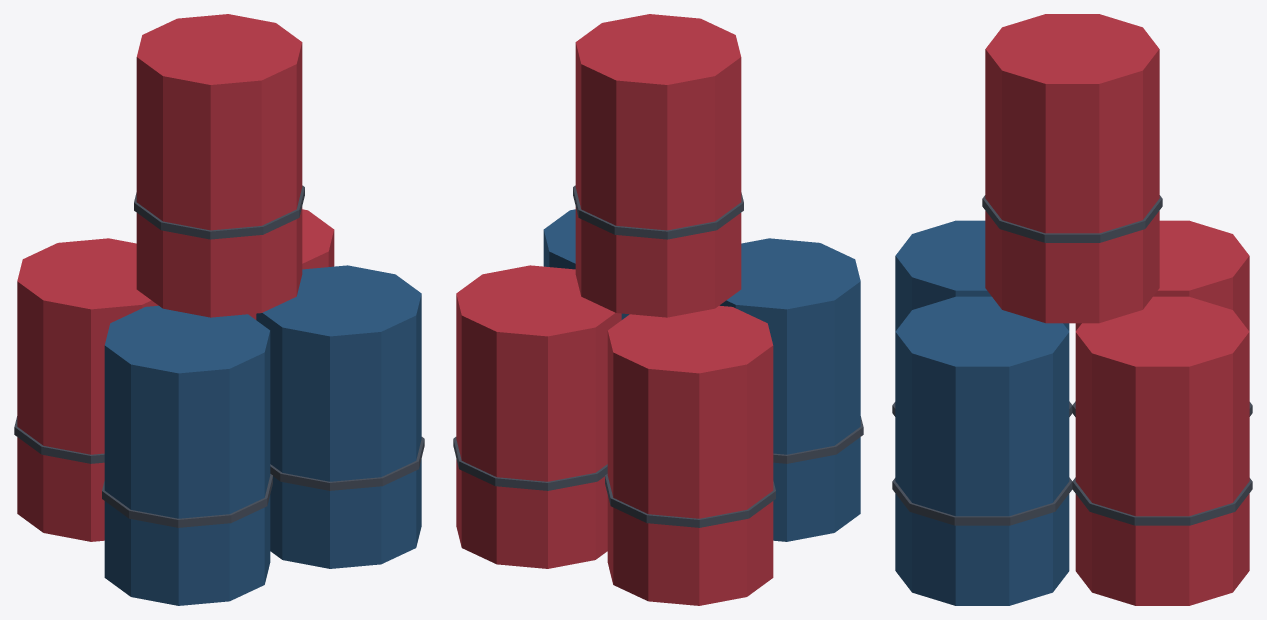
Rendered from drum_stack.glb.
3 views of the same model, side by side, from view 1: azimuth 30°, elevation 25°; view 2: azimuth 150°, elevation 25°; view 3: azimuth 270°, elevation 25° (orthographic). The views are drawn at different scales.
Parts seen in each view (by area): view 1: drum_stack; view 2: drum_stack; view 3: drum_stack.
Part boxes in pixels (x1,y1,x2,y2): drum_stack: (14, 14, 424, 605); drum_stack: (453, 14, 863, 605); drum_stack: (892, 14, 1252, 605).
Bounding box in the file's own units: 1.17 × 1.78 × 1.2.
